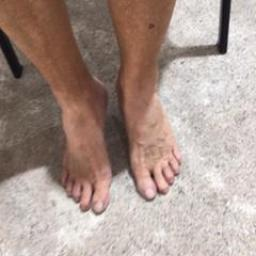Dorsal View -Both Feet-: (34, 60, 189, 222)
